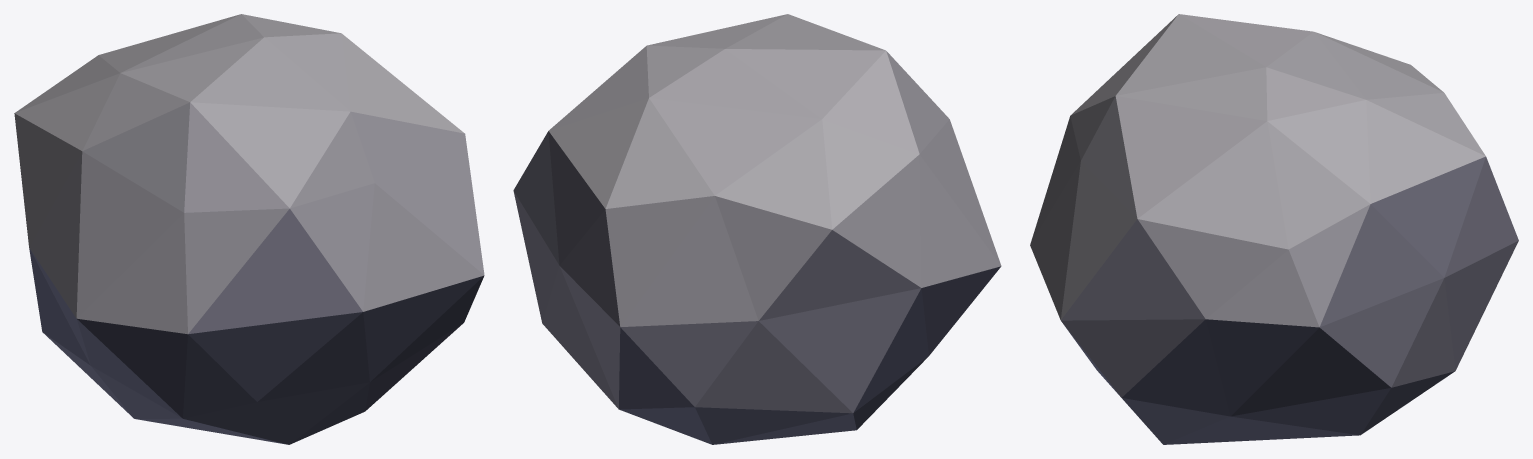
The model's file is stone_basic_b.fbx.
3 views of the same model, side by side, from view 1: azimuth 30°, elevation 25°; view 2: azimuth 150°, elevation 25°; view 3: azimuth 270°, elevation 25° (orthographic).
Visible parts, largest first — view 1: stone_basic_b; view 2: stone_basic_b; view 3: stone_basic_b.
Boxes of the visible parts, x1,y1,x2,y2 form: stone_basic_b: [14, 14, 484, 444]; stone_basic_b: [513, 14, 1001, 444]; stone_basic_b: [1030, 14, 1518, 444].
Bounding box in the file's own units: 0.3539 × 0.2834 × 0.3557.
